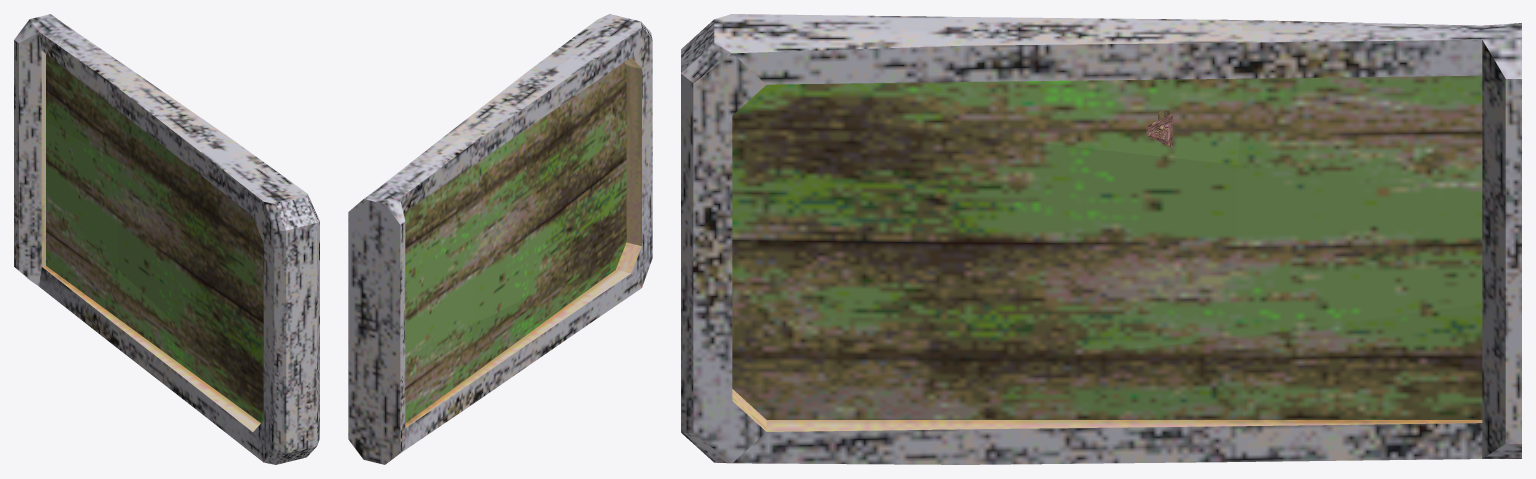
The model's file is Door.fbx.
3 renders of one model, left to right at view 1: azimuth 30°, elevation 25°; view 2: azimuth 150°, elevation 25°; view 3: azimuth 270°, elevation 25°, orthographic. The views are drawn at different scales.
Visible parts, largest first — view 1: Body, Frame; view 2: Body, Frame; view 3: Body, Frame.
Boxes of the visible parts, bbox=[...] form: Body: bbox=[46, 54, 263, 422]; Frame: bbox=[14, 14, 319, 464]; Body: bbox=[403, 62, 626, 423]; Frame: bbox=[348, 14, 652, 464]; Body: bbox=[732, 75, 1482, 419]; Frame: bbox=[681, 14, 1521, 464].
Size of the model in its own units: 0.402 by 1.56 by 2.83.
